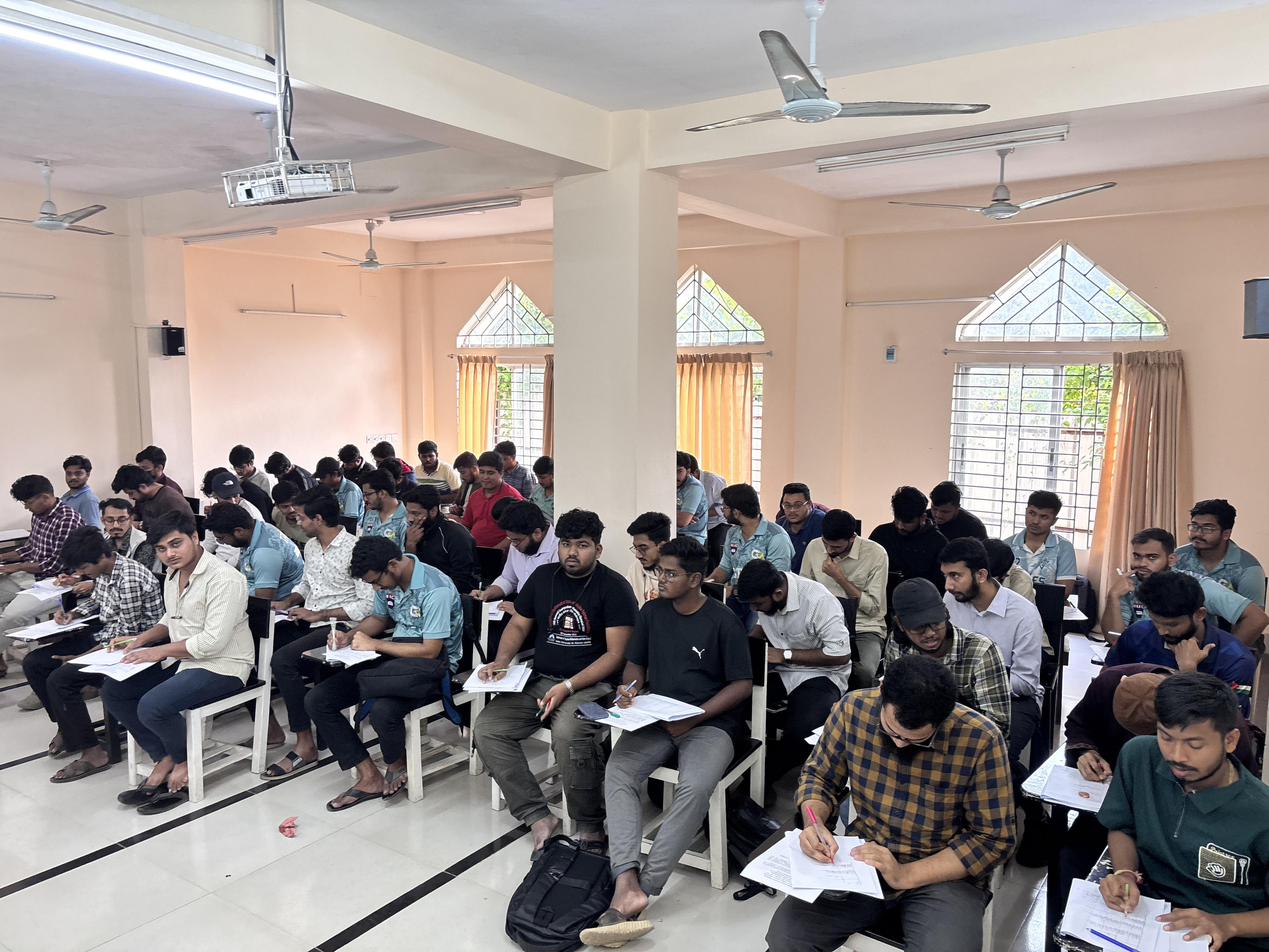copying: (279, 487, 356, 643), (878, 575, 986, 658), (358, 470, 399, 536), (95, 497, 143, 544), (272, 480, 301, 530), (208, 470, 247, 505), (415, 437, 446, 475)
no_cheating: (783, 653, 999, 922), (1075, 676, 1268, 935), (488, 509, 620, 765), (126, 511, 234, 738), (321, 533, 444, 728), (622, 534, 728, 752), (39, 528, 158, 685), (1125, 579, 1221, 667), (733, 554, 809, 656), (487, 501, 555, 591), (202, 500, 277, 570), (809, 507, 868, 592), (930, 536, 998, 608), (5, 474, 71, 544), (1182, 493, 1239, 574), (1009, 481, 1070, 556), (400, 489, 460, 565), (878, 485, 932, 560), (112, 463, 183, 512), (1116, 531, 1185, 581), (469, 452, 514, 523), (623, 509, 669, 574), (773, 474, 815, 538), (925, 480, 967, 533), (59, 453, 94, 506), (450, 449, 483, 501), (262, 446, 298, 484), (310, 457, 343, 496), (224, 443, 257, 480), (529, 456, 554, 502), (336, 444, 365, 475)
side_talking: (719, 479, 763, 548), (672, 450, 714, 519)
